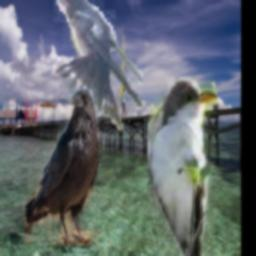Crow: (25, 90, 100, 247)
Cuckoo: (148, 78, 217, 256)
Swallow: (55, 0, 144, 133)
